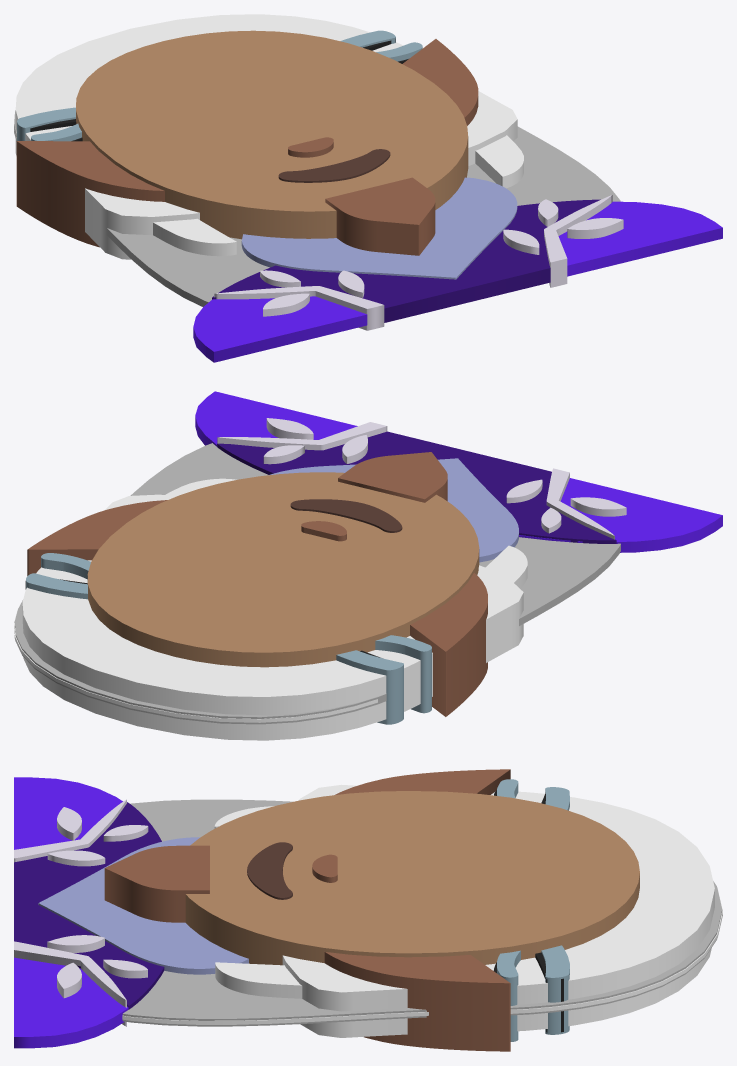
Rendered from emoji_u1f9dd_1f3fd_200d_2640.glb.
3 renders of one model, top to bottom at view 1: azimuth 30°, elevation 25°; view 2: azimuth 150°, elevation 25°; view 3: azimuth 270°, elevation 25°, orthographic. The views are drawn at different scales.
Visible parts, largest first — view 1: emoji_u1f9dd_1f3fd_200d_2640; view 2: emoji_u1f9dd_1f3fd_200d_2640; view 3: emoji_u1f9dd_1f3fd_200d_2640.
Boxes of the visible parts, left/top/right/bottom form: emoji_u1f9dd_1f3fd_200d_2640: left=14, top=14, right=722, bottom=362; emoji_u1f9dd_1f3fd_200d_2640: left=14, top=391, right=722, bottom=740; emoji_u1f9dd_1f3fd_200d_2640: left=14, top=769, right=722, bottom=1051.
Bounding box in the file's own units: 0.0293 × 0.0046 × 0.0338.
